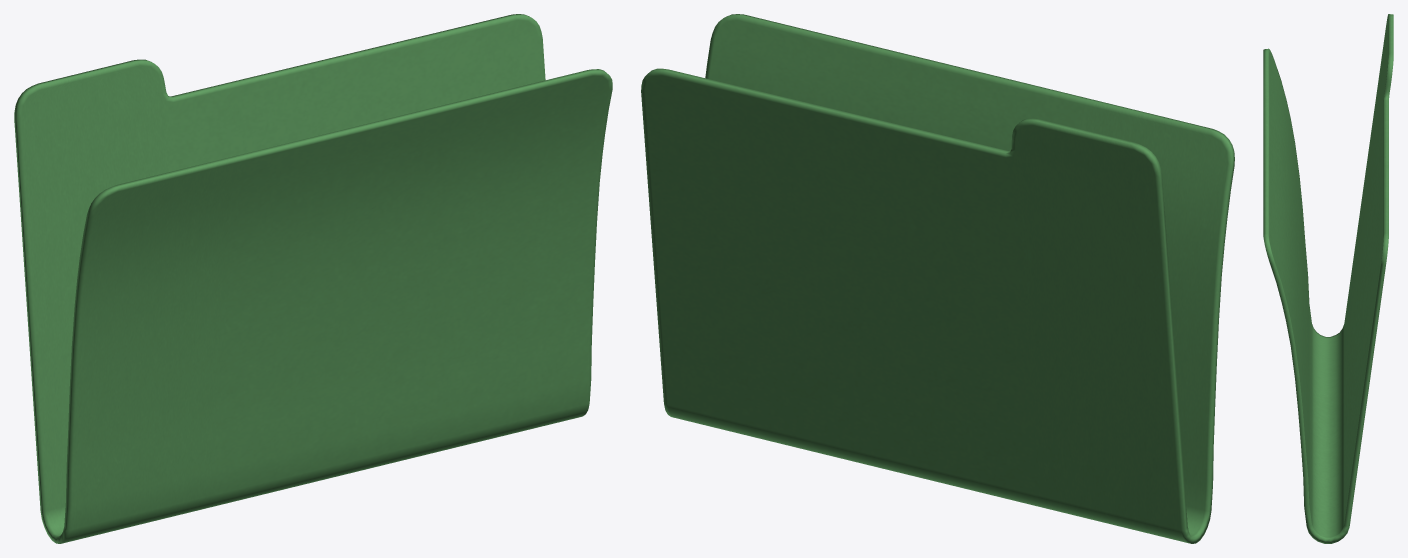
3 renders of one model, left to right at view 1: azimuth 30°, elevation 25°; view 2: azimuth 150°, elevation 25°; view 3: azimuth 270°, elevation 25°, orthographic. The views are drawn at different scales.
Visible parts, largest first — view 1: documents_folder_stylized_lod0; view 2: documents_folder_stylized_lod0; view 3: documents_folder_stylized_lod0.
Part boxes in pixels (x1,y1,x2,y2): documents_folder_stylized_lod0: (14, 14, 612, 543); documents_folder_stylized_lod0: (641, 14, 1234, 543); documents_folder_stylized_lod0: (1263, 14, 1393, 543).
Bounding box in the file's own units: 0.2766 × 0.2138 × 0.0755.
Materials: 1 (1 with a texture image).
